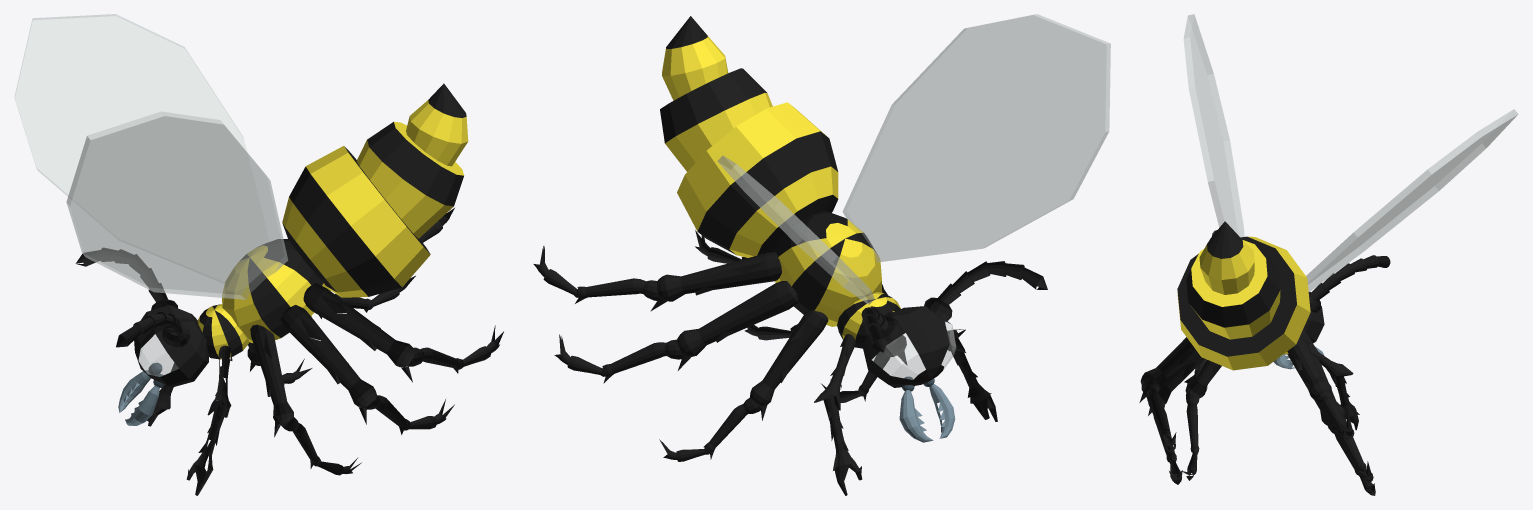
File: owz-by-sirkitree-5vbeGRwzuQl.glb
The picture shows the model from 3 angles, left to right: view 1: azimuth 30°, elevation 25°; view 2: azimuth 150°, elevation 25°; view 3: azimuth 270°, elevation 25°; orthographic projection. The views are drawn at different scales.
Parts seen in each view (by area): view 1: group1967926661; view 2: group1967926661; view 3: group1967926661.
Part boxes in pixels (x1,y1,x2,y2): group1967926661: (14,14,503,495); group1967926661: (533,14,1110,495); group1967926661: (1139,14,1518,495).
Bounding box in the file's own units: 0.2341 × 0.1979 × 0.1885.
